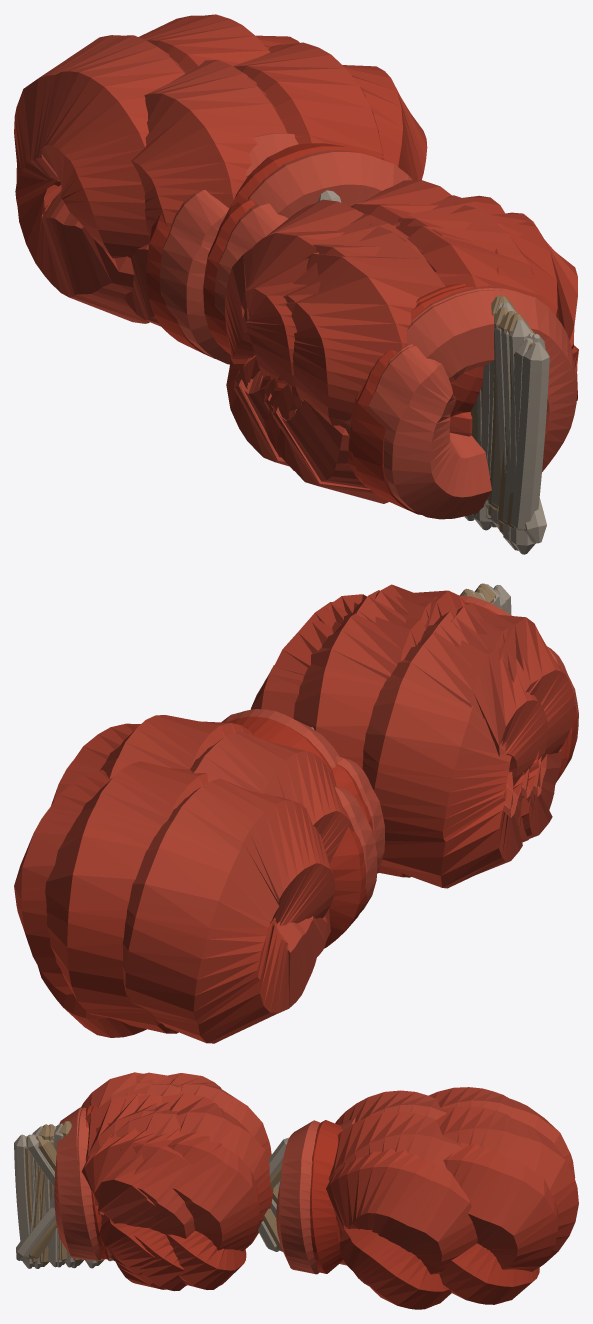
The model's file is Punch.fbx.
3 renders of one model, top to bottom at view 1: azimuth 30°, elevation 25°; view 2: azimuth 150°, elevation 25°; view 3: azimuth 270°, elevation 25°, orthographic. The views are drawn at different scales.
Visible parts, largest first — view 1: Punch; view 2: Punch; view 3: Punch.
Boxes of the visible parts, bbox=[...] form: Punch: bbox=[14, 14, 578, 554]; Punch: bbox=[14, 583, 578, 1043]; Punch: bbox=[14, 1072, 578, 1309].
Bounding box in the file's own units: 12.35 × 9.8 × 27.97.
